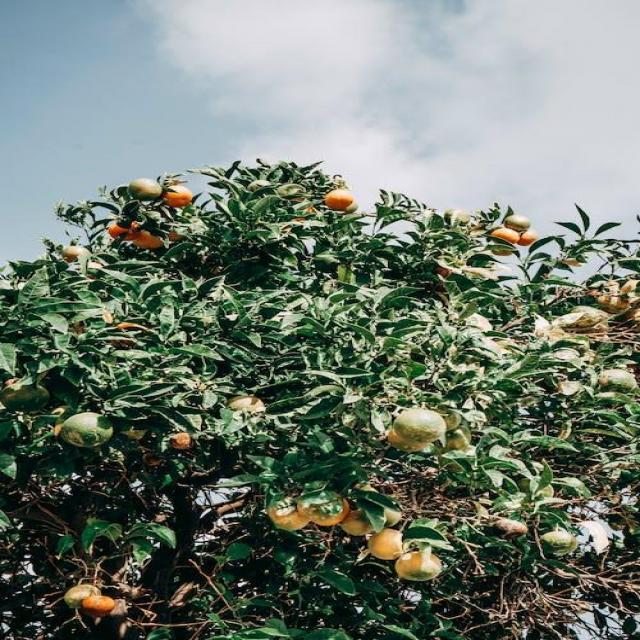Jeruk Belum Matang: (60, 411, 110, 448), (397, 410, 448, 442), (1, 386, 50, 412), (599, 368, 636, 396), (540, 530, 577, 556), (66, 582, 102, 608), (225, 396, 265, 416), (132, 180, 162, 200), (378, 504, 402, 526), (62, 246, 90, 263), (506, 216, 528, 230)
Jeruk Sudah Matang: (300, 494, 348, 524), (268, 501, 314, 532), (396, 552, 442, 581), (368, 532, 406, 562), (341, 512, 374, 535), (162, 186, 192, 207), (326, 189, 354, 211), (112, 221, 140, 241), (80, 598, 114, 614), (134, 230, 162, 248), (496, 229, 524, 245), (172, 432, 194, 448), (520, 232, 538, 245)
